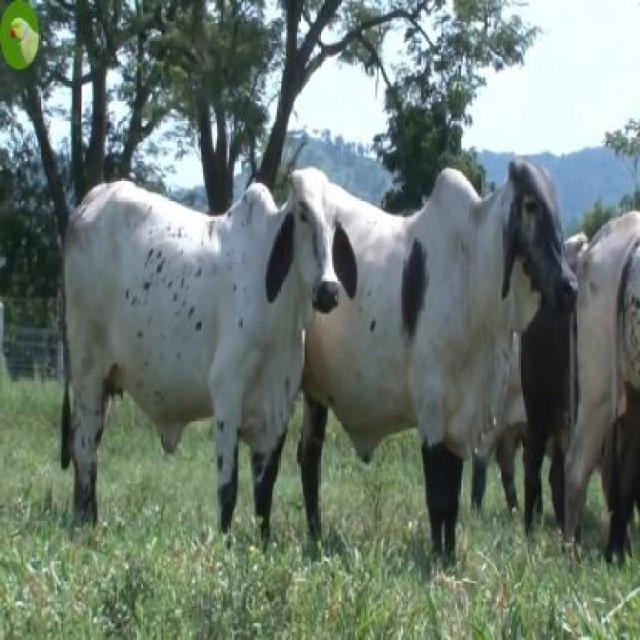Cow: (61, 155, 357, 537)
